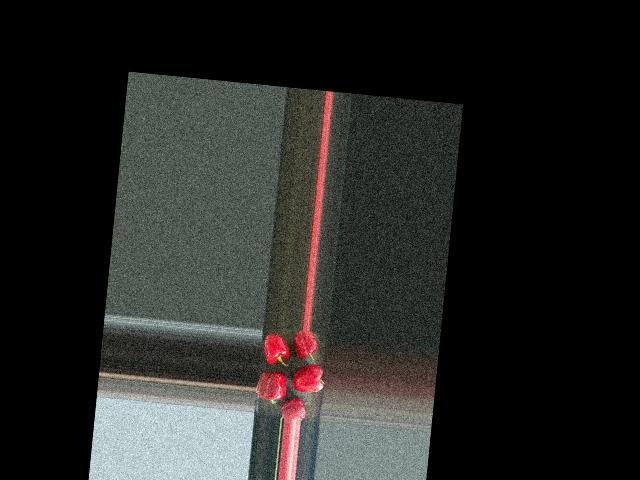bell_pepper: (278, 396, 311, 421)
